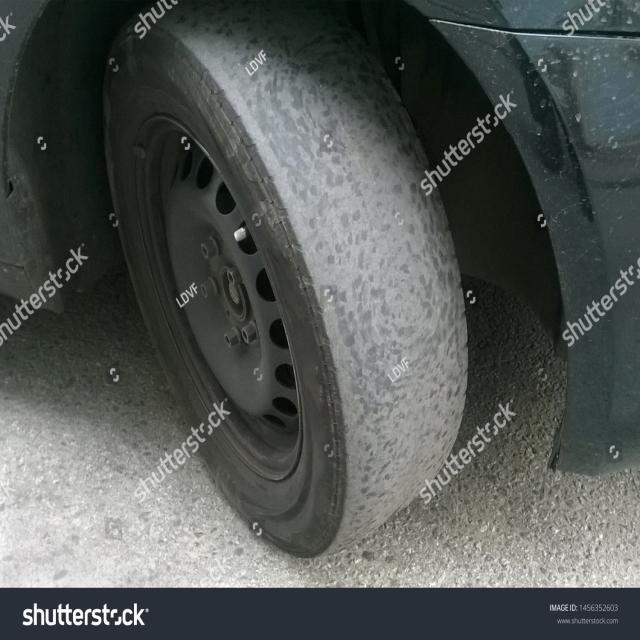Flat spots: (336, 172, 440, 529), (265, 79, 395, 169)
